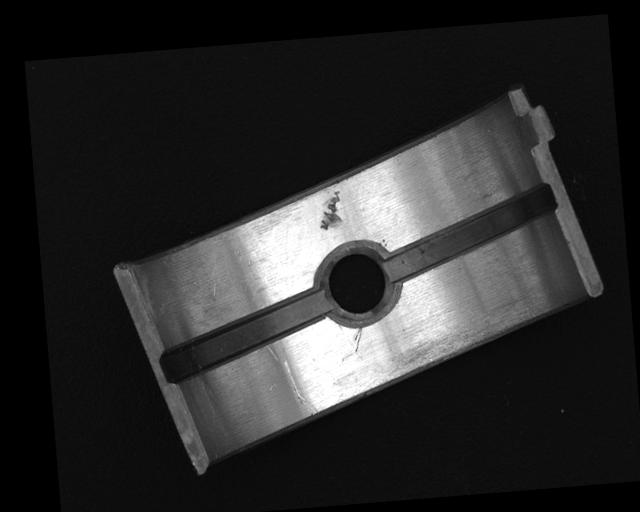bruise: (316, 189, 344, 231)
gap: (383, 183, 559, 282), (157, 290, 333, 383)
hole: (314, 244, 399, 330)
nick: (281, 356, 317, 417), (351, 325, 365, 353)
scratch: (389, 306, 540, 377)
